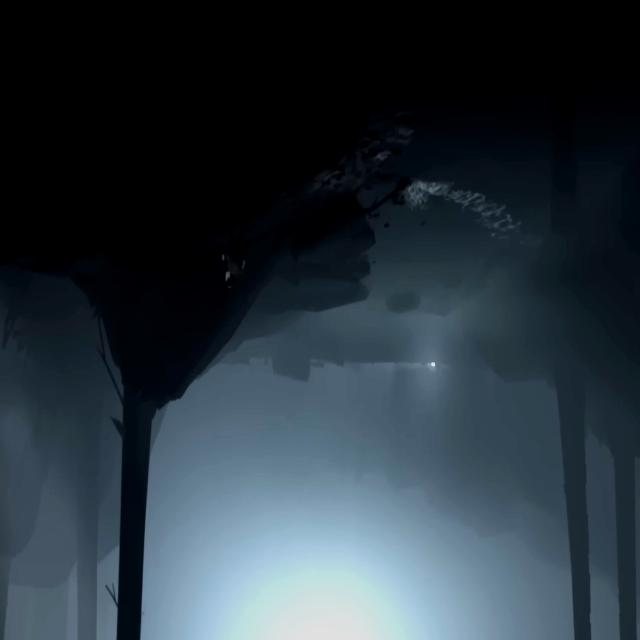boy: (222, 221, 247, 288)
